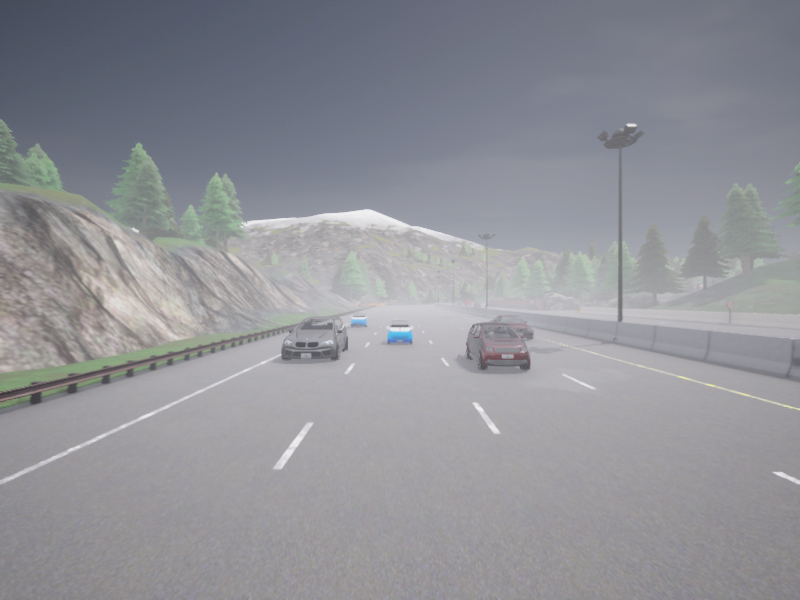vehicle: (465, 323, 529, 370), (281, 316, 348, 360), (490, 315, 534, 340), (386, 319, 413, 344), (350, 312, 367, 327), (465, 300, 471, 305), (473, 303, 479, 307), (457, 302, 461, 305), (478, 301, 483, 303), (463, 302, 465, 304)
